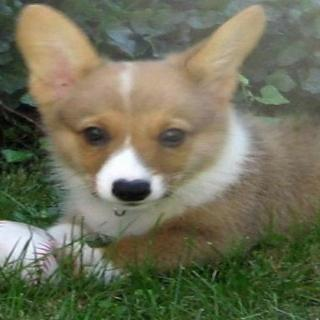dog: (10, 0, 269, 226)
nose: (107, 169, 159, 210)
